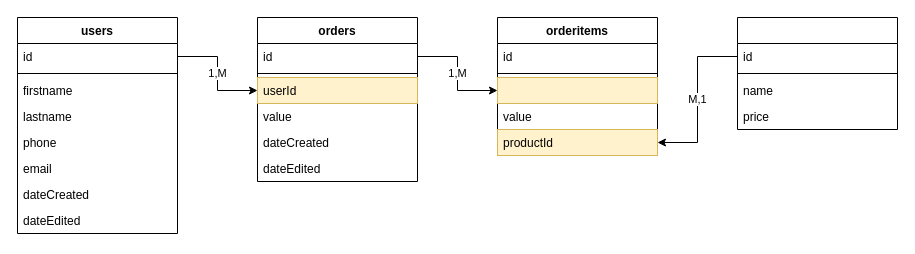
Some shapes in this 915 by 254 pixel diagram are drawn without their labels. Here are the shapes that lost their labels. From the top down, the box of each, then its label:
(496, 76, 658, 104): orderId
(736, 16, 898, 130): products
